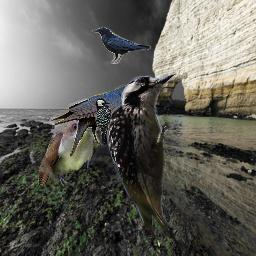Crow: (49, 84, 150, 158), (92, 27, 151, 64)
Cuckoo: (38, 118, 96, 185)
Woodpecker: (101, 65, 182, 244), (94, 97, 119, 145)
